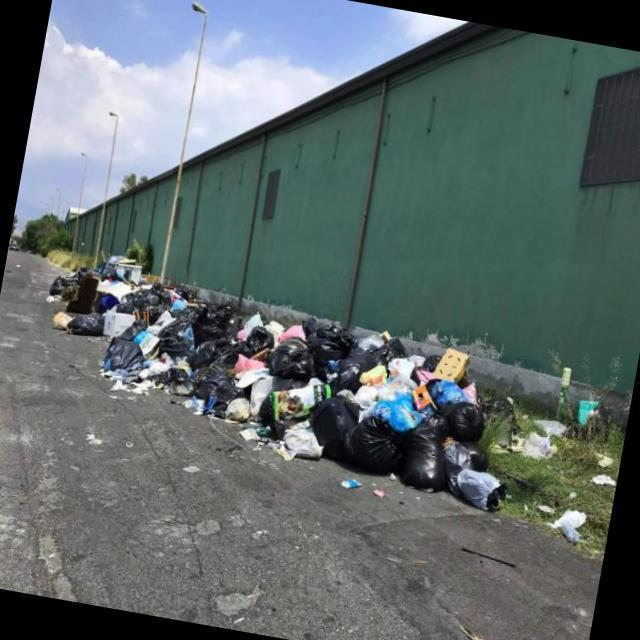garbage: (18, 240, 540, 522), (519, 402, 573, 470), (544, 494, 594, 558)
